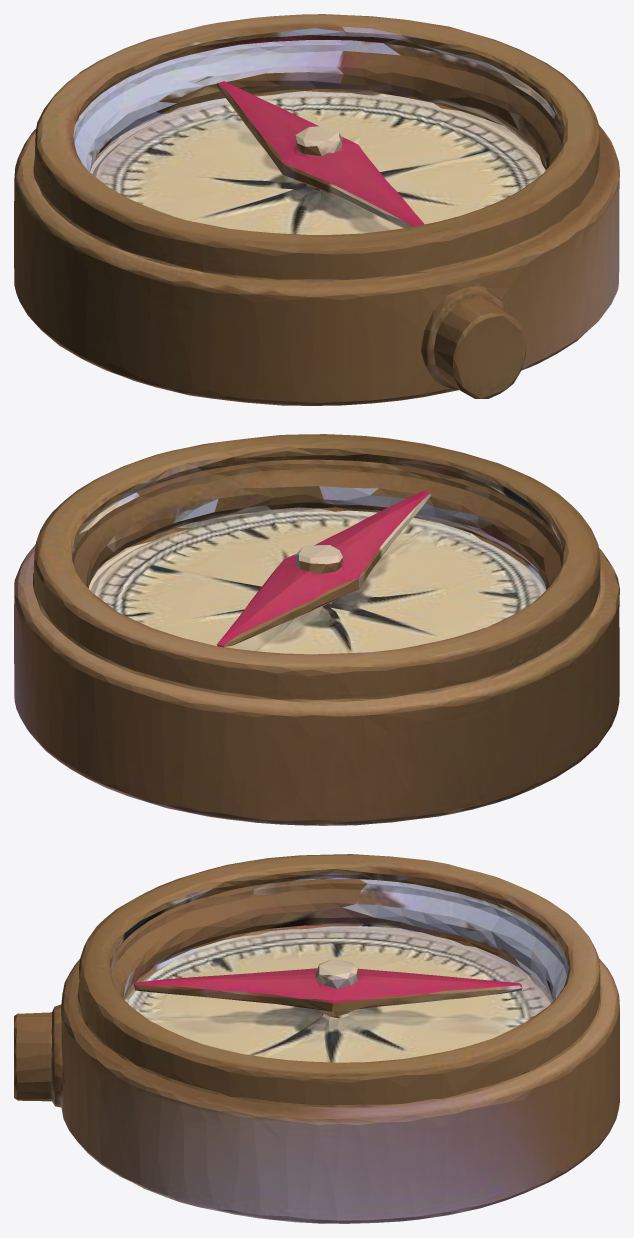
Rendered from compass.glb.
3 renders of one model, top to bottom at view 1: azimuth 30°, elevation 25°; view 2: azimuth 150°, elevation 25°; view 3: azimuth 270°, elevation 25°, orthographic. The views are drawn at different scales.
Parts seen in each view (by area): view 1: tmprhnb73g0.ply; view 2: tmprhnb73g0.ply; view 3: tmprhnb73g0.ply.
Boxes of the visible parts, <box> form: tmprhnb73g0.ply: <box>14,14,619,405</box>; tmprhnb73g0.ply: <box>14,434,619,825</box>; tmprhnb73g0.ply: <box>14,854,619,1223</box>.
Size of the model in its own units: 1.87 by 0.5244 by 1.99.
1 material, 1 textured.
